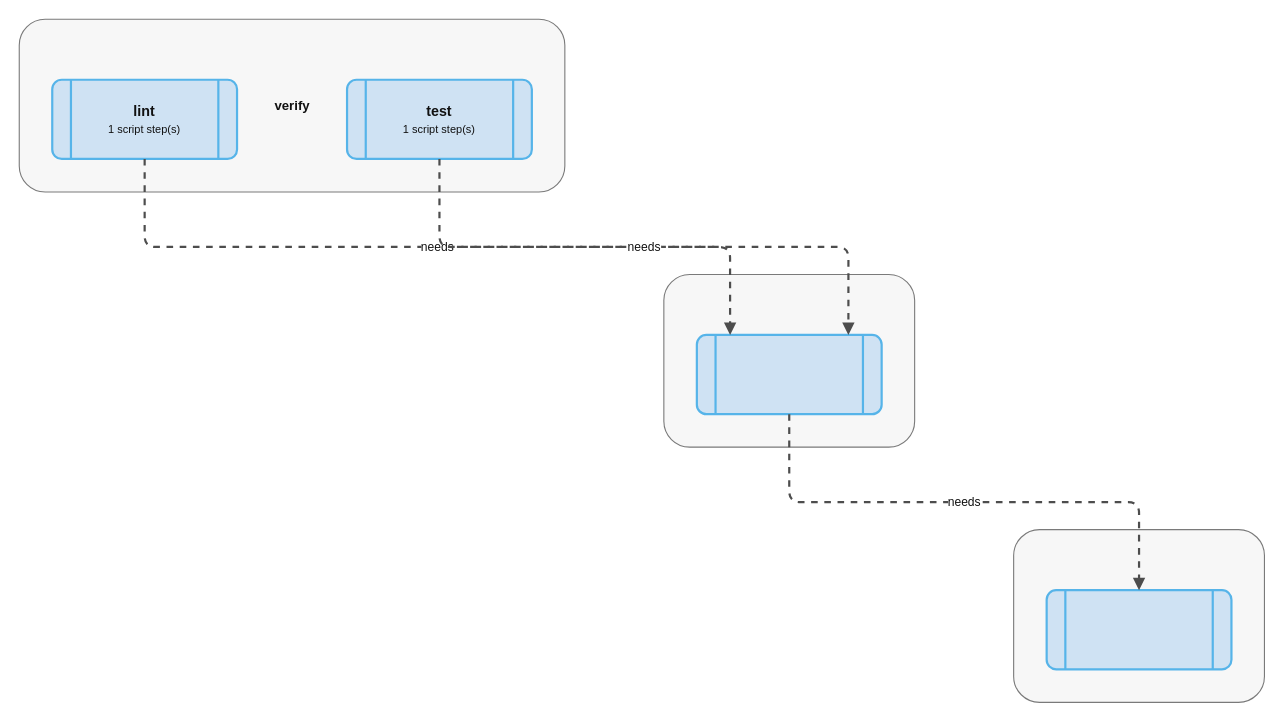
This 1284x722 diagram has some shape labels left out. Each missing label, with the centre of its shape:
"build 1 script step(s)" belongs at pixel 788 374.
"deploy 1 script step(s)" belongs at pixel 1138 629.
